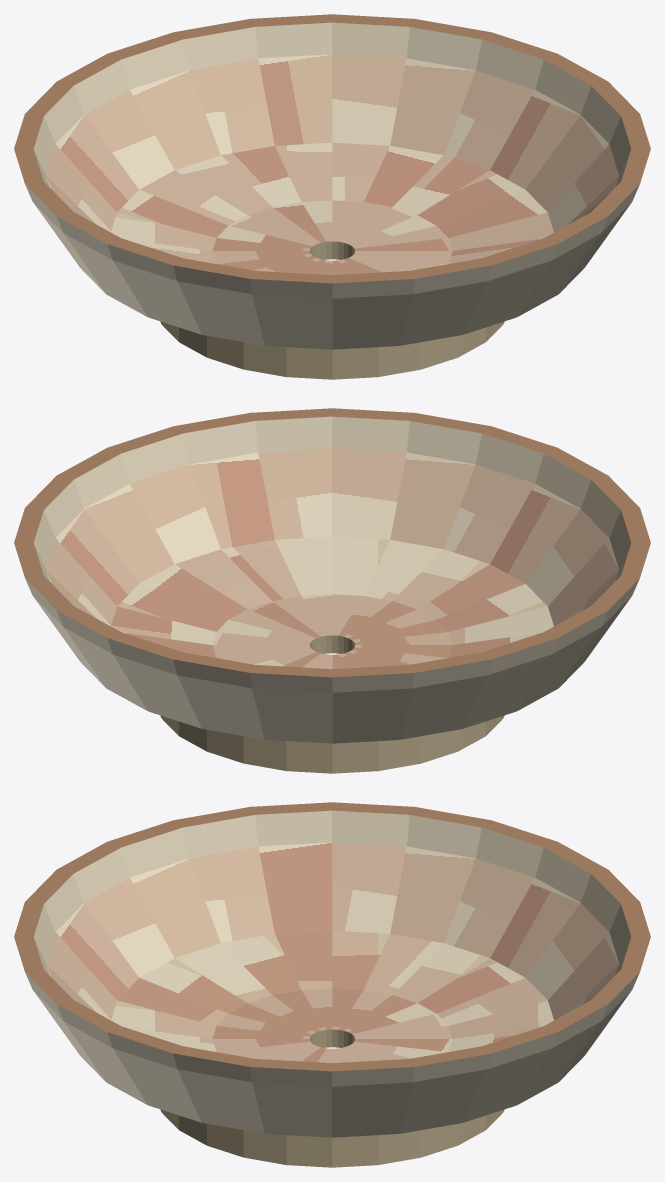
Rendered from antique-kutani-red.glb.
3 views of the same model, one above another, from view 1: azimuth 30°, elevation 25°; view 2: azimuth 150°, elevation 25°; view 3: azimuth 270°, elevation 25° (orthographic).
Visible parts, largest first — view 1: antique-kutani-red/ceramic-inner-wall-6, antique-kutani-red/ceramic-inner-lower-7, antique-kutani-red/ceramic-outer-mid-2, antique-kutani-red/ceramic-inner-upper-5, antique-kutani-red/ceramic-rim-4, antique-kutani-red/ceramic-inner-floor-8, antique-kutani-red/ceramic-outer-upper-3, antique-kutani-red/ceramic-foot-outer-1, antique-kutani-red/ceramic-drainage-wall-9; view 2: antique-kutani-red/ceramic-inner-wall-6, antique-kutani-red/ceramic-inner-lower-7, antique-kutani-red/ceramic-outer-mid-2, antique-kutani-red/ceramic-inner-upper-5, antique-kutani-red/ceramic-rim-4, antique-kutani-red/ceramic-inner-floor-8, antique-kutani-red/ceramic-outer-upper-3, antique-kutani-red/ceramic-foot-outer-1, antique-kutani-red/ceramic-drainage-wall-9; view 3: antique-kutani-red/ceramic-inner-wall-6, antique-kutani-red/ceramic-inner-lower-7, antique-kutani-red/ceramic-outer-mid-2, antique-kutani-red/ceramic-inner-upper-5, antique-kutani-red/ceramic-rim-4, antique-kutani-red/ceramic-inner-floor-8, antique-kutani-red/ceramic-outer-upper-3, antique-kutani-red/ceramic-foot-outer-1, antique-kutani-red/ceramic-drainage-wall-9.
Boxes of the visible parts, x1,y1,x2,y2 form: antique-kutani-red/ceramic-inner-wall-6: (46,54,618,232); antique-kutani-red/ceramic-inner-lower-7: (111,142,553,263); antique-kutani-red/ceramic-outer-mid-2: (34,203,630,349); antique-kutani-red/ceramic-inner-upper-5: (33,22,631,186); antique-kutani-red/ceramic-rim-4: (14,14,650,283); antique-kutani-red/ceramic-inner-floor-8: (212,200,452,275); antique-kutani-red/ceramic-outer-upper-3: (25,184,639,298); antique-kutani-red/ceramic-foot-outer-1: (160,321,504,379); antique-kutani-red/ceramic-drainage-wall-9: (310,241,354,259); antique-kutani-red/ceramic-inner-wall-6: (46,448,618,626); antique-kutani-red/ceramic-inner-lower-7: (111,536,553,657); antique-kutani-red/ceramic-outer-mid-2: (34,597,630,743); antique-kutani-red/ceramic-inner-upper-5: (33,416,631,580); antique-kutani-red/ceramic-rim-4: (14,408,650,677); antique-kutani-red/ceramic-inner-floor-8: (212,594,452,669); antique-kutani-red/ceramic-outer-upper-3: (25,578,639,692); antique-kutani-red/ceramic-foot-outer-1: (160,715,504,773); antique-kutani-red/ceramic-drainage-wall-9: (310,635,354,653); antique-kutani-red/ceramic-inner-wall-6: (46,842,618,1020); antique-kutani-red/ceramic-inner-lower-7: (111,930,553,1051); antique-kutani-red/ceramic-outer-mid-2: (34,991,630,1137); antique-kutani-red/ceramic-inner-upper-5: (33,810,631,974); antique-kutani-red/ceramic-rim-4: (14,802,650,1071); antique-kutani-red/ceramic-inner-floor-8: (212,988,452,1063); antique-kutani-red/ceramic-outer-upper-3: (25,972,639,1086); antique-kutani-red/ceramic-foot-outer-1: (160,1109,504,1167); antique-kutani-red/ceramic-drainage-wall-9: (310,1029,354,1047).
Bounding box in the file's own units: 0.875 × 0.2362 × 0.875.
4 materials, 4 textured.
